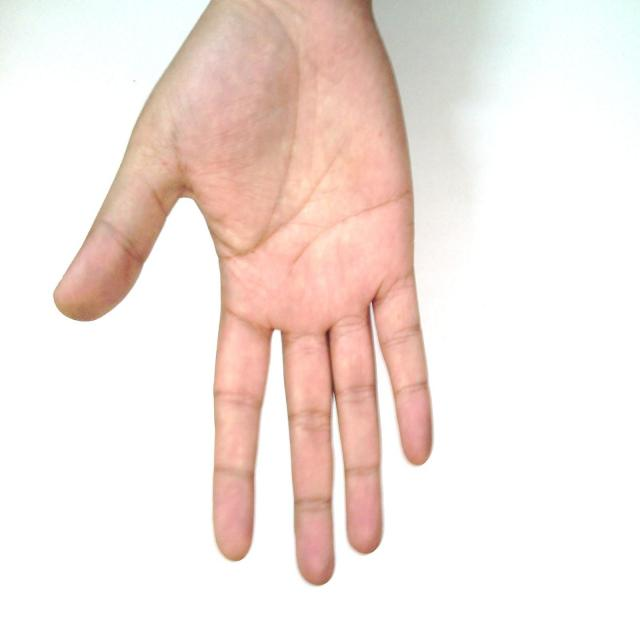others: (39, 0, 584, 588)
